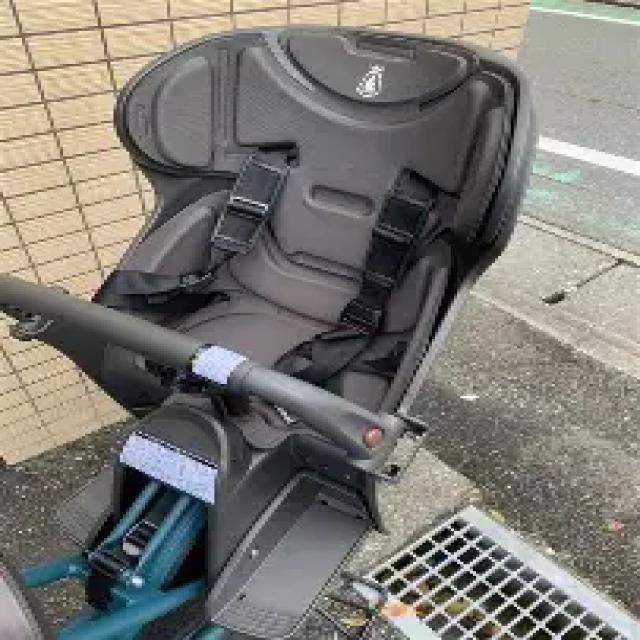childseat: (0, 26, 552, 640)
